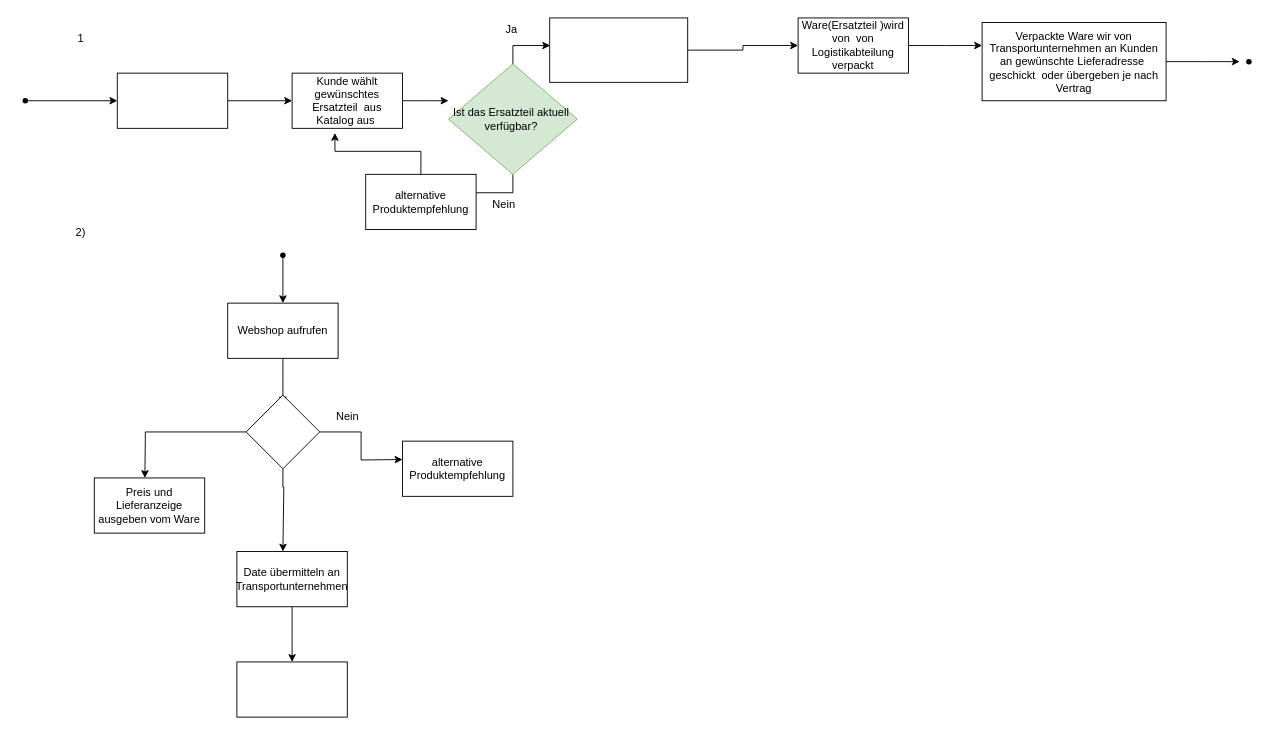
Image size: 1274x733. Some labels were removed from this diagram. The shapes that lost their labels are listed below. From the top down, each one's box as (x1, y1, x2, y2) in pixels, then its label:
(549, 17, 688, 82): Bestellungskatalog mit Liefer/Preisanzeige an Logistik übermitteln
(116, 72, 228, 128): Kunde ruft Website des Webshops auf
(245, 394, 320, 469): Ist der Artikel erfassbar
(236, 661, 347, 717): Ware wird von Logistikunternehmen verpackt
